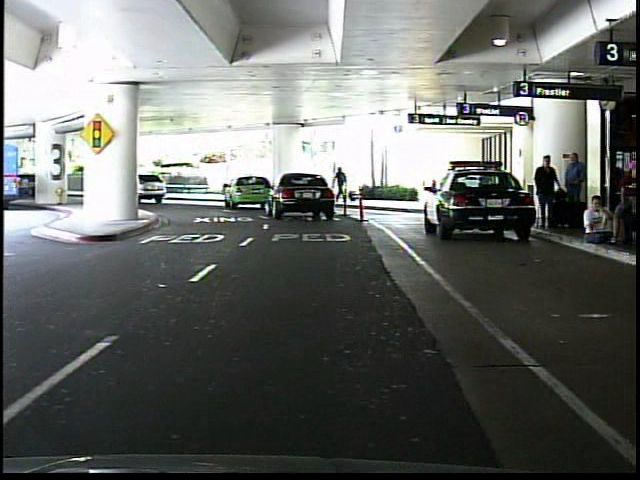person: (559, 147, 590, 232), (533, 154, 562, 231), (335, 161, 351, 204)
